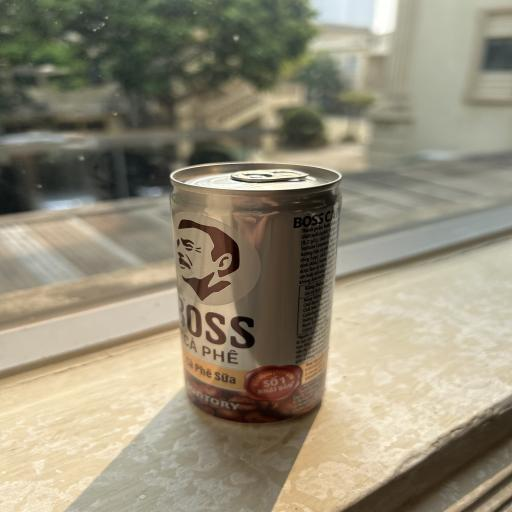boss_coffee: (164, 159, 346, 430)
